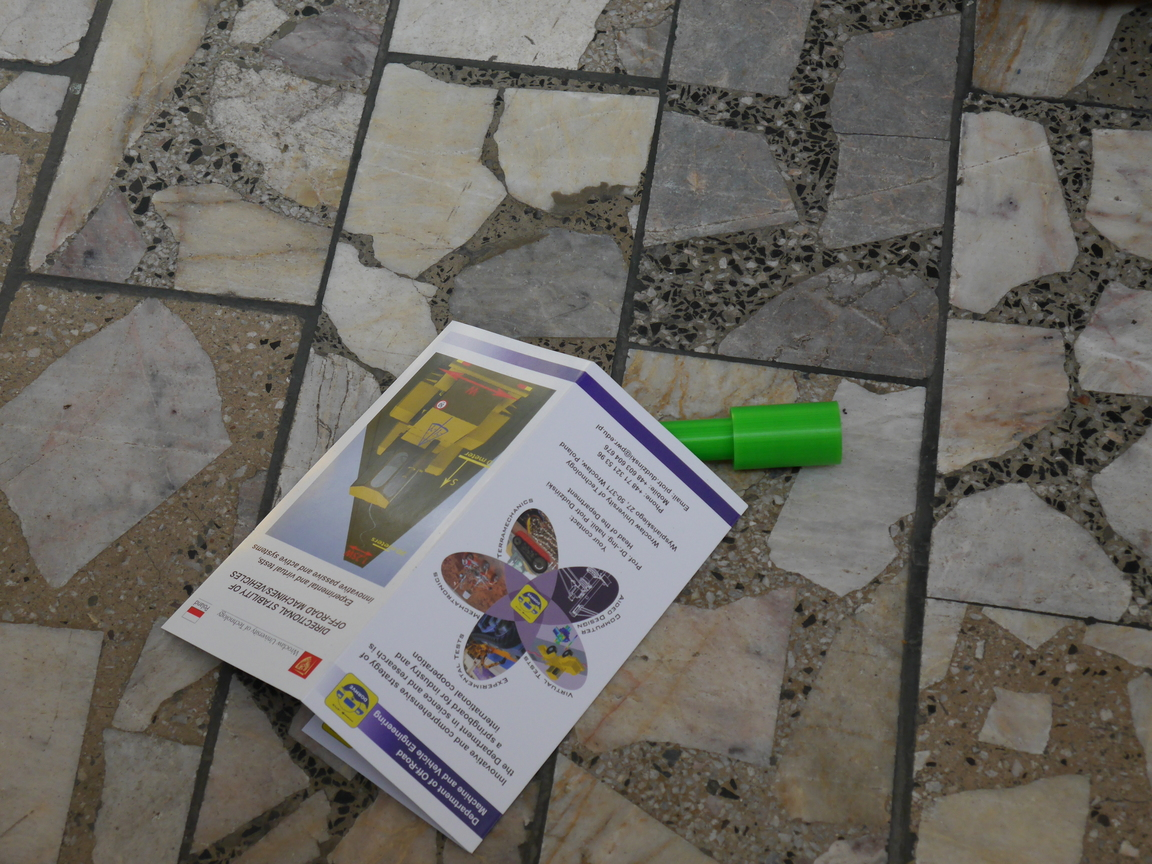cargo_g: (644, 400, 841, 472)
